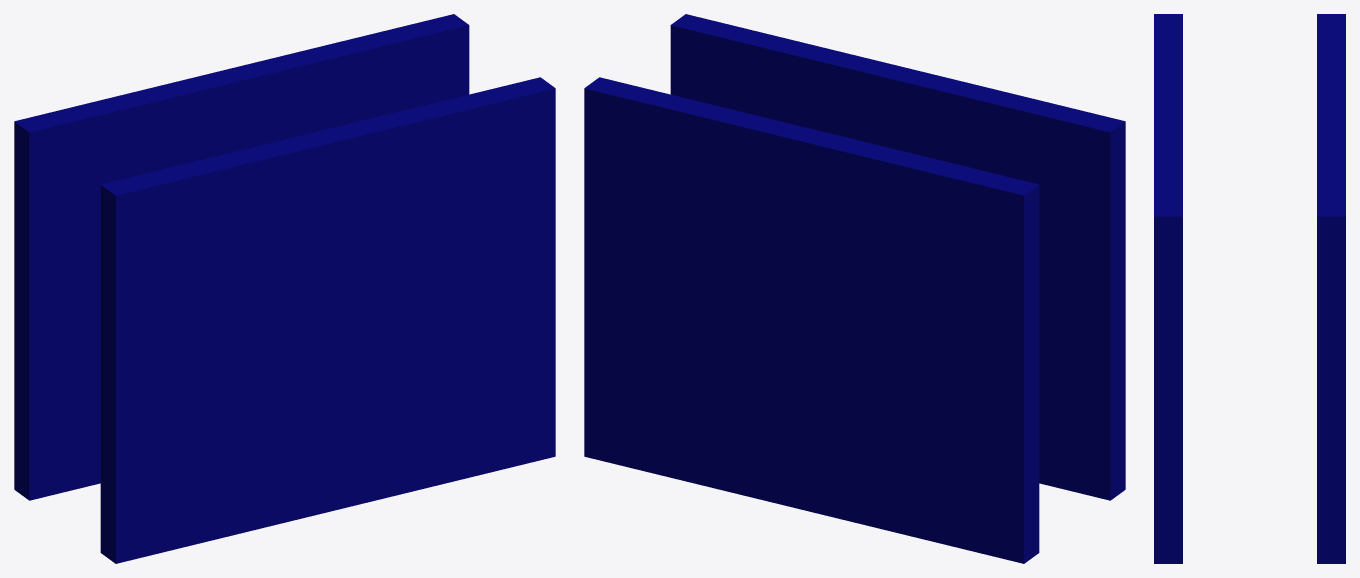
File: Wall07.FBX
3 renders of one model, left to right at view 1: azimuth 30°, elevation 25°; view 2: azimuth 150°, elevation 25°; view 3: azimuth 270°, elevation 25°, orthographic. The views are drawn at different scales.
Parts seen in each view (by area): view 1: Wall07; view 2: Wall07; view 3: Wall07.
Boxes of the visible parts, x1=… form: Wall07: x1=14, y1=14, x2=555, y2=563; Wall07: x1=584, y1=14, x2=1125, y2=563; Wall07: x1=1154, y1=14, x2=1345, y2=563.
Size of the model in its own units: 100 by 80 by 40.
Materials: 1 (1 with a texture image).
